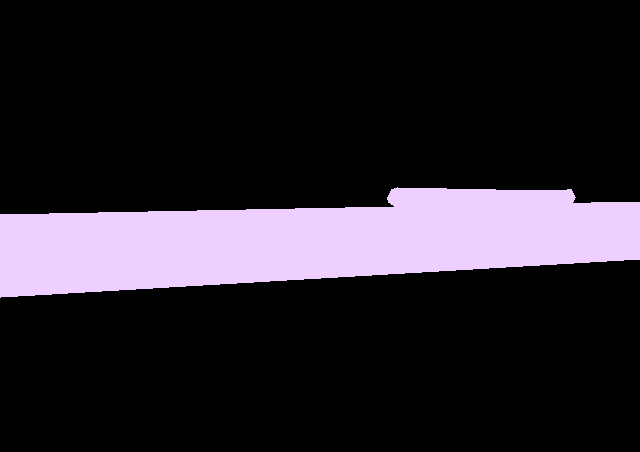Train: (0, 201, 640, 297), (387, 187, 575, 212)
